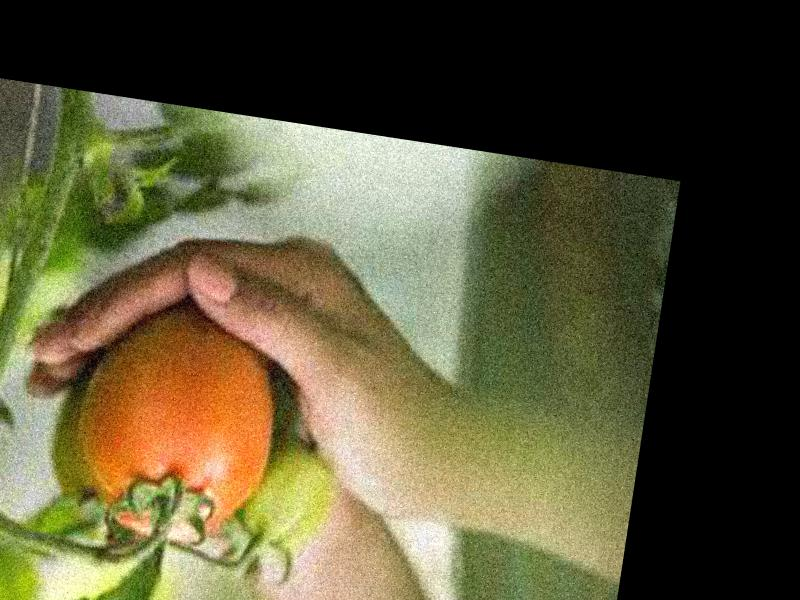Tomato: (67, 305, 287, 550)
